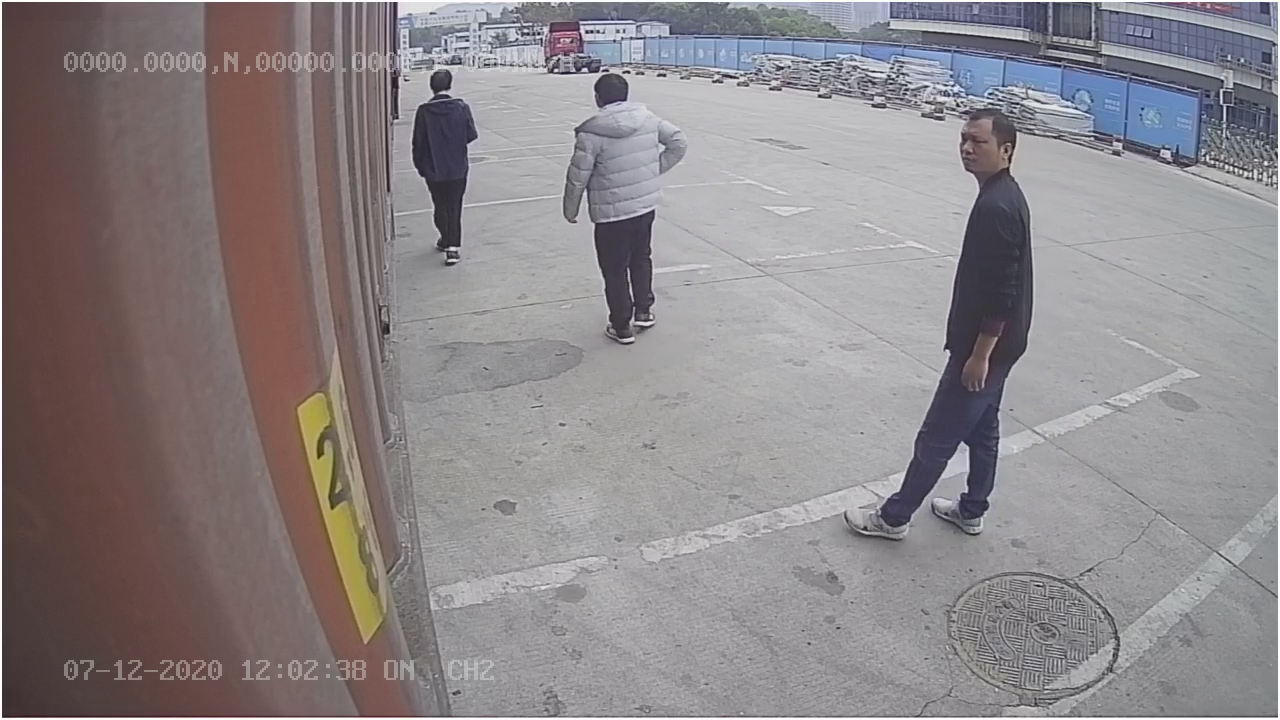person: (840, 96, 1041, 541), (559, 73, 691, 351)
